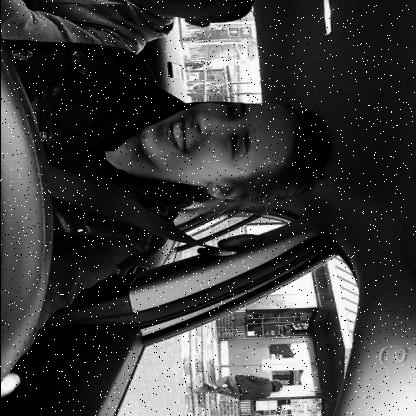seatbelt: (0, 92, 347, 258)
